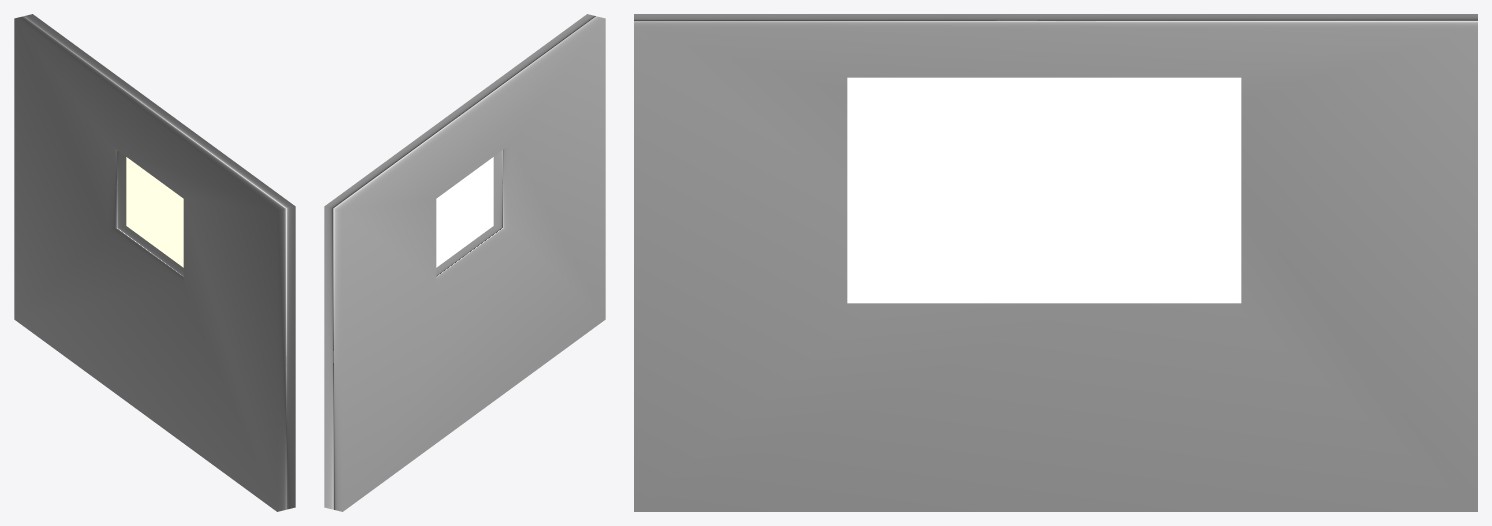
Rendered from basement_door.glb.
3 views of the same model, side by side, from view 1: azimuth 30°, elevation 25°; view 2: azimuth 150°, elevation 25°; view 3: azimuth 270°, elevation 25° (orthographic). The views are drawn at different scales.
Visible parts, largest first — view 1: Door -col, WindowLight; view 2: Door -col, WindowLight; view 3: Door -col, WindowLight.
Boxes of the visible parts, x1,y1,x2,y2 form: Door -col: (14,14,295,511); WindowLight: (126,157,183,267); Door -col: (324,14,605,511); WindowLight: (436,157,493,267); Door -col: (634,14,1477,511); WindowLight: (847,77,1241,303).
Bounding box in the file's own units: 0.2076 × 2.92 × 4.62.
